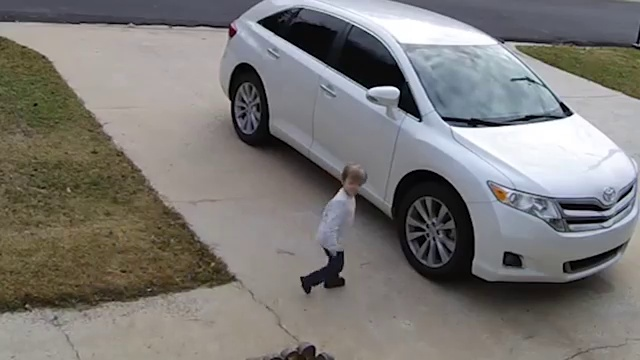face: (347, 175, 362, 195)
